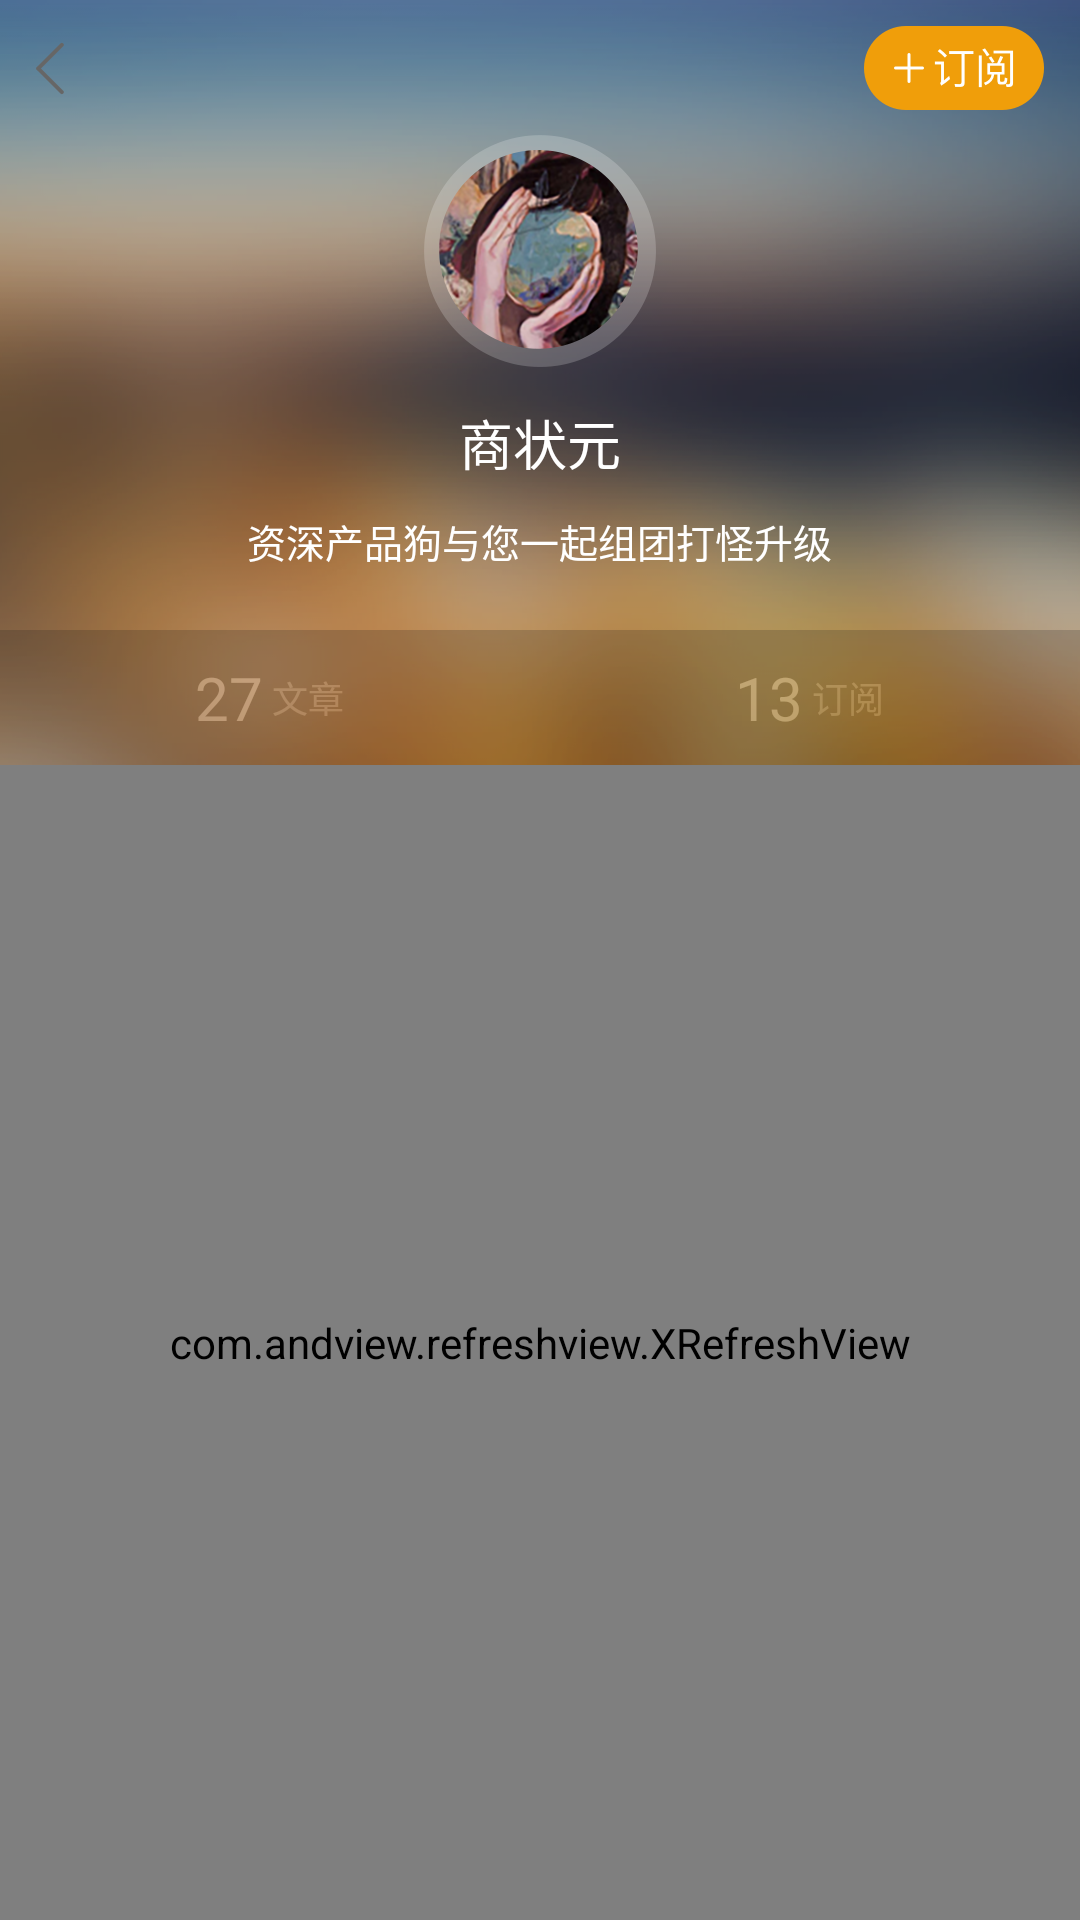

Icons on this 1080×1920 Android screen, each with the point to tap as [x,y]:
author user center: [540,251]
